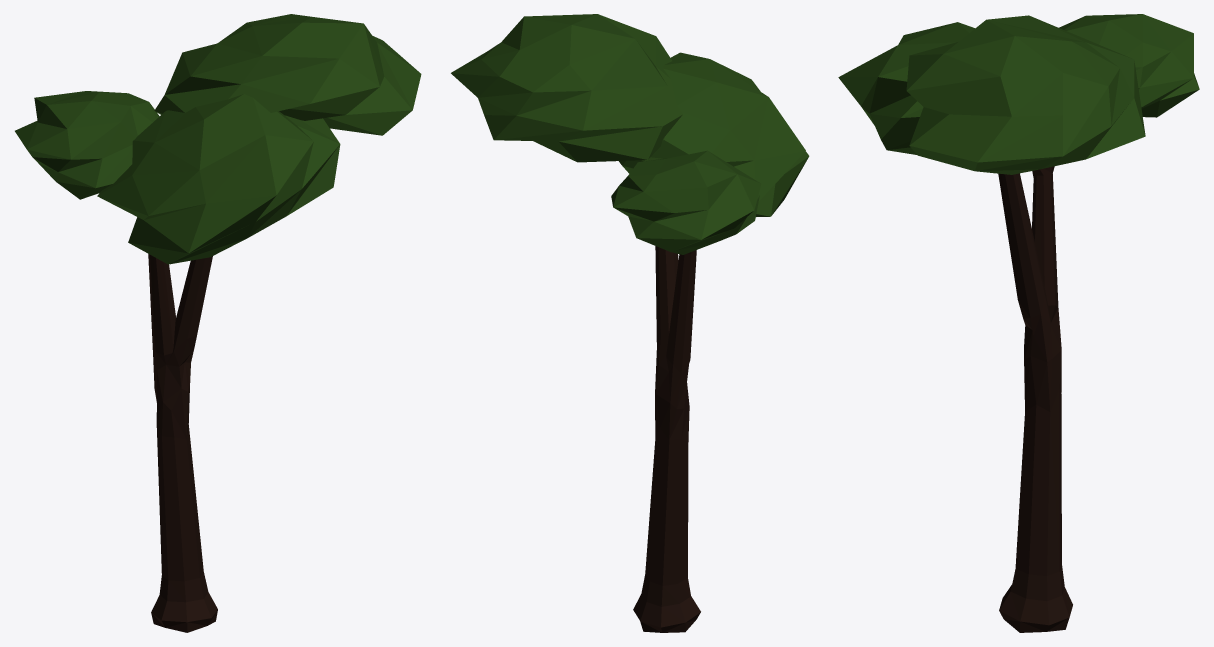
The model's file is SM_Tree03.fbx.
3 views of the same model, side by side, from view 1: azimuth 30°, elevation 25°; view 2: azimuth 150°, elevation 25°; view 3: azimuth 270°, elevation 25° (orthographic). The views are drawn at different scales.
Parts seen in each view (by area): view 1: Tree02; view 2: Tree02; view 3: Tree02.
Boxes of the visible parts, left/top/right/bottom form: Tree02: left=15, top=14, right=421, bottom=632; Tree02: left=451, top=14, right=809, bottom=632; Tree02: left=838, top=14, right=1199, bottom=632.
Bounding box in the file's own units: 251 × 419 × 212.
